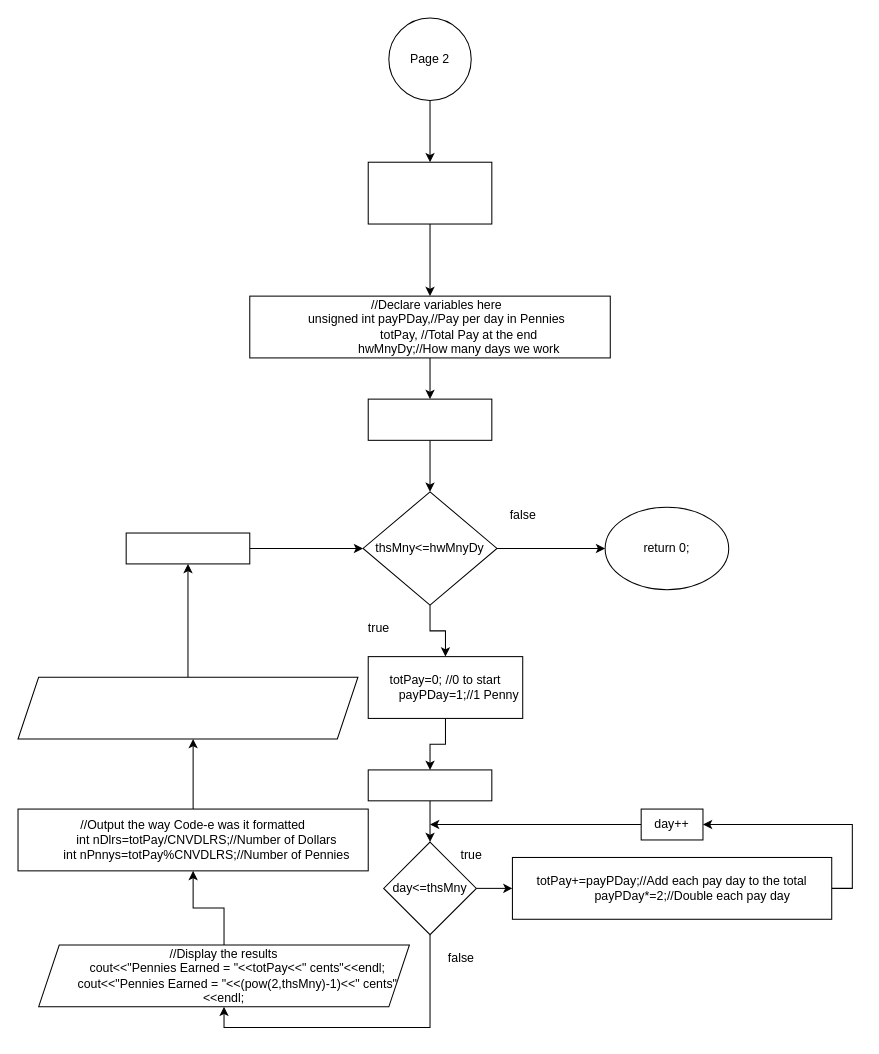
The diagram is 879 pixels wide and 1054 high, and some of its shapes have lost their labels. Each missing label, with the centre of its shape:
//Set random number seed once here None: point 429,192
cout<<"Total Pay = $"<<nDlrs<<'.' <<(nPnnys<10?"0":"")<<nPnnys<<endl<<endl;: point 187,707
int day=1: point 429,785
int thsMny=1: point 429,419
thsMny++: point 187,548
